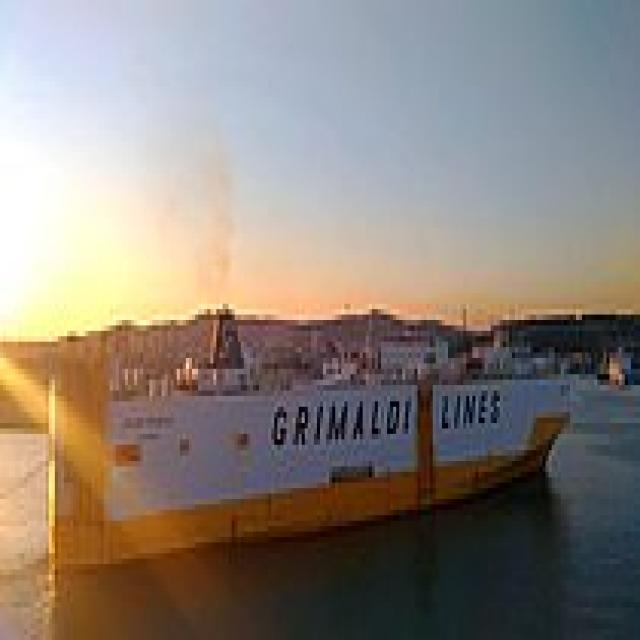Carrier: (40, 287, 573, 575)
